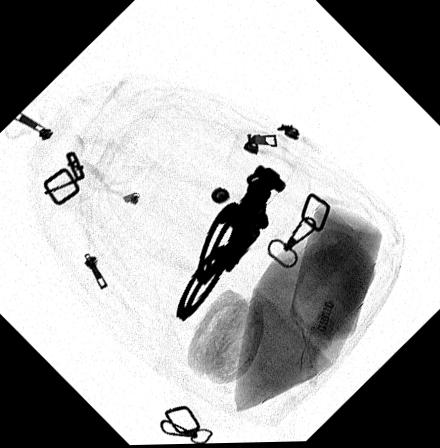HandCuffs: (173, 164, 286, 321)
